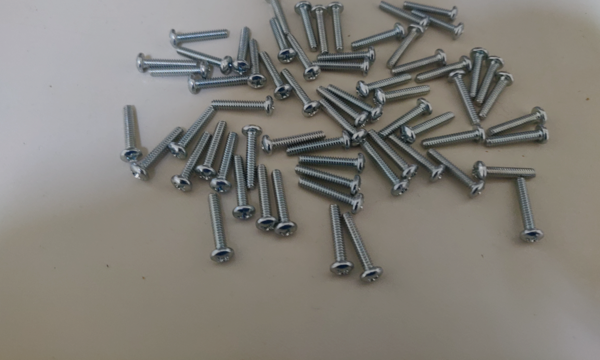longscrew: (346, 211, 386, 286), (131, 125, 186, 179), (198, 191, 234, 266), (393, 133, 445, 181), (433, 150, 484, 198), (364, 143, 408, 196), (372, 128, 416, 181), (297, 180, 365, 213), (328, 82, 385, 118), (489, 103, 551, 136), (174, 108, 216, 156), (174, 132, 209, 189), (318, 100, 362, 141), (519, 177, 544, 247), (423, 124, 489, 150), (411, 10, 468, 40), (298, 165, 361, 192), (319, 88, 366, 124), (283, 70, 320, 115), (380, 101, 430, 134), (448, 69, 478, 124), (287, 30, 320, 80), (389, 24, 424, 68), (178, 44, 231, 73), (291, 131, 352, 156), (200, 120, 226, 178), (378, 0, 430, 29), (272, 171, 293, 242), (264, 128, 325, 152), (120, 106, 143, 168), (488, 127, 550, 150), (331, 206, 351, 277), (234, 157, 255, 224), (475, 161, 538, 183), (478, 53, 505, 104), (300, 149, 366, 169), (390, 51, 445, 75), (261, 52, 289, 99), (214, 134, 235, 195), (267, 19, 296, 63), (213, 97, 280, 116), (401, 115, 454, 139), (295, 0, 320, 50), (308, 3, 333, 53), (323, 0, 348, 50), (417, 56, 471, 79), (241, 125, 261, 187), (263, 0, 296, 36), (352, 24, 407, 45), (181, 75, 247, 92), (402, 0, 460, 19), (486, 74, 511, 118), (357, 74, 418, 92), (376, 85, 436, 103), (173, 28, 232, 46), (133, 52, 198, 68), (248, 39, 268, 90), (260, 165, 274, 234), (150, 66, 214, 80), (313, 61, 372, 76), (319, 49, 377, 64), (472, 48, 488, 99), (235, 26, 252, 73)
